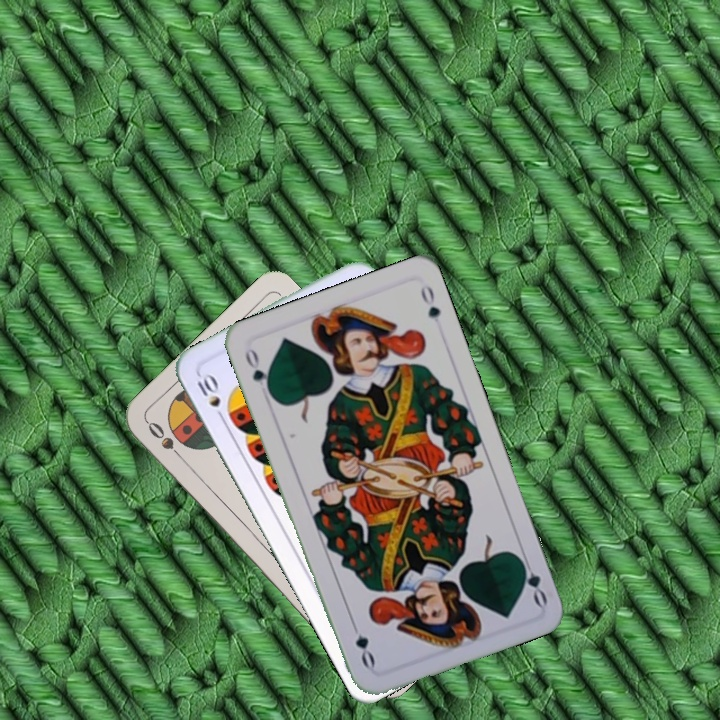GO: (514, 551, 550, 609), (241, 344, 275, 399)
S10: (193, 369, 228, 425)
SO: (143, 417, 189, 465)
